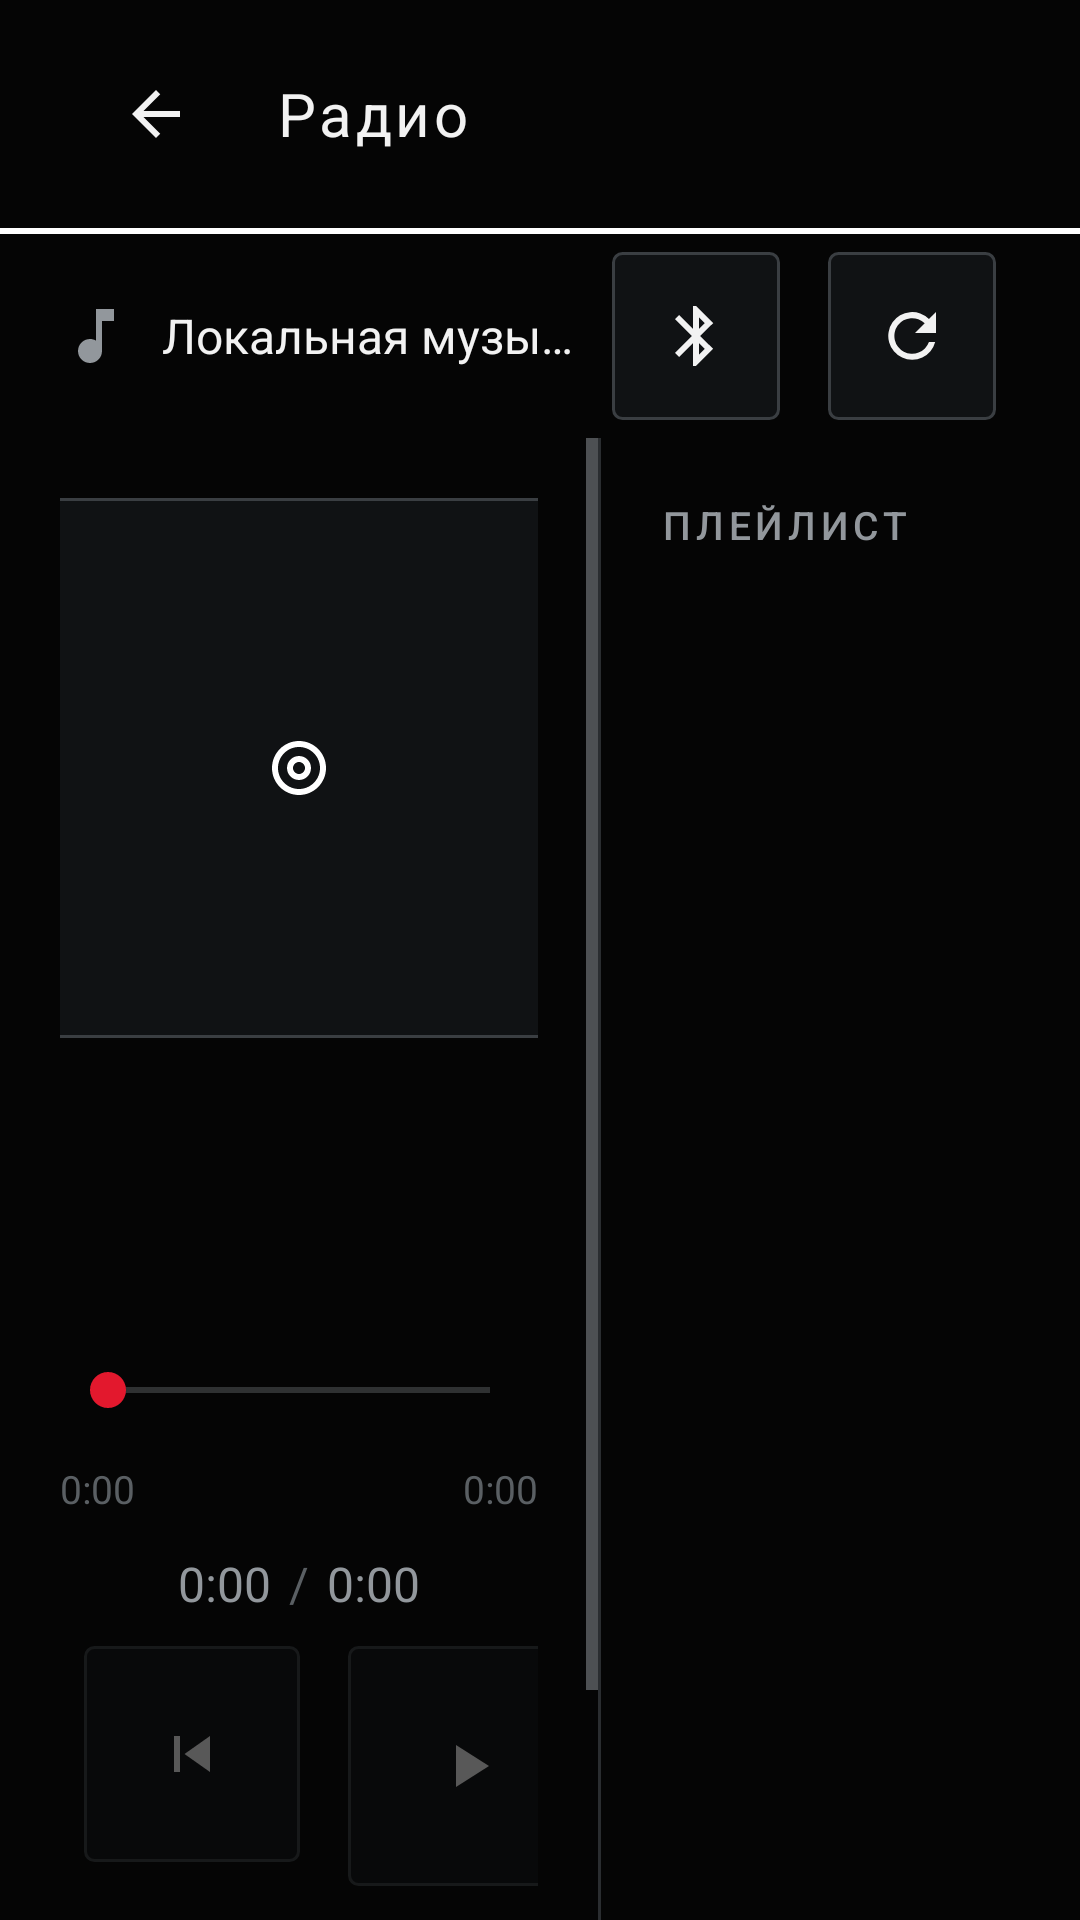

Where icons sit on this 1080 × 1920 app screen, as (x1, y1, x2, y2):
Назад: (132, 90, 180, 138)
Обновить список: (828, 252, 996, 420)
Предыдущий трек: (174, 1736, 210, 1772)
